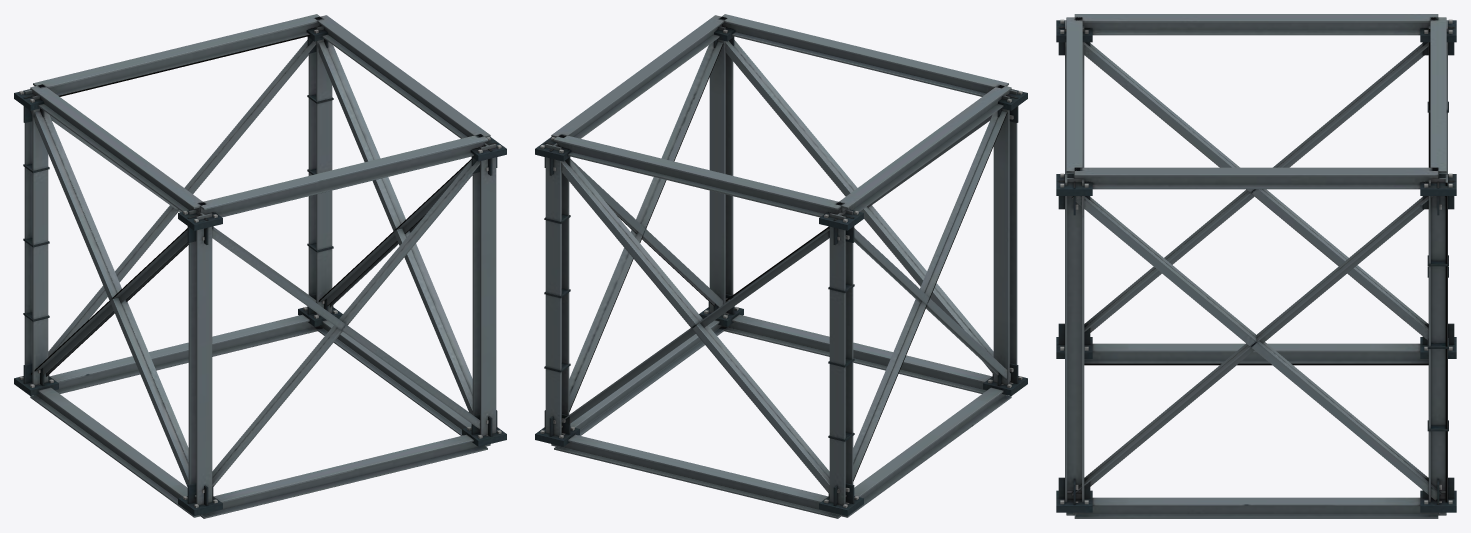
The model's file is tower_bay.glb.
The picture shows the model from 3 angles, left to right: view 1: azimuth 30°, elevation 25°; view 2: azimuth 150°, elevation 25°; view 3: azimuth 270°, elevation 25°; orthographic projection. The views are drawn at different scales.
Visible parts, largest first — view 1: body; view 2: body; view 3: body.
Part boxes in pixels (x1,y1,x2,y2): body: [14, 14, 506, 518]; body: [535, 14, 1027, 518]; body: [1056, 14, 1456, 518].
Bounding box in the file's own units: 6.6 × 6.27 × 6.6.
Materials: 1 (1 with a texture image).
